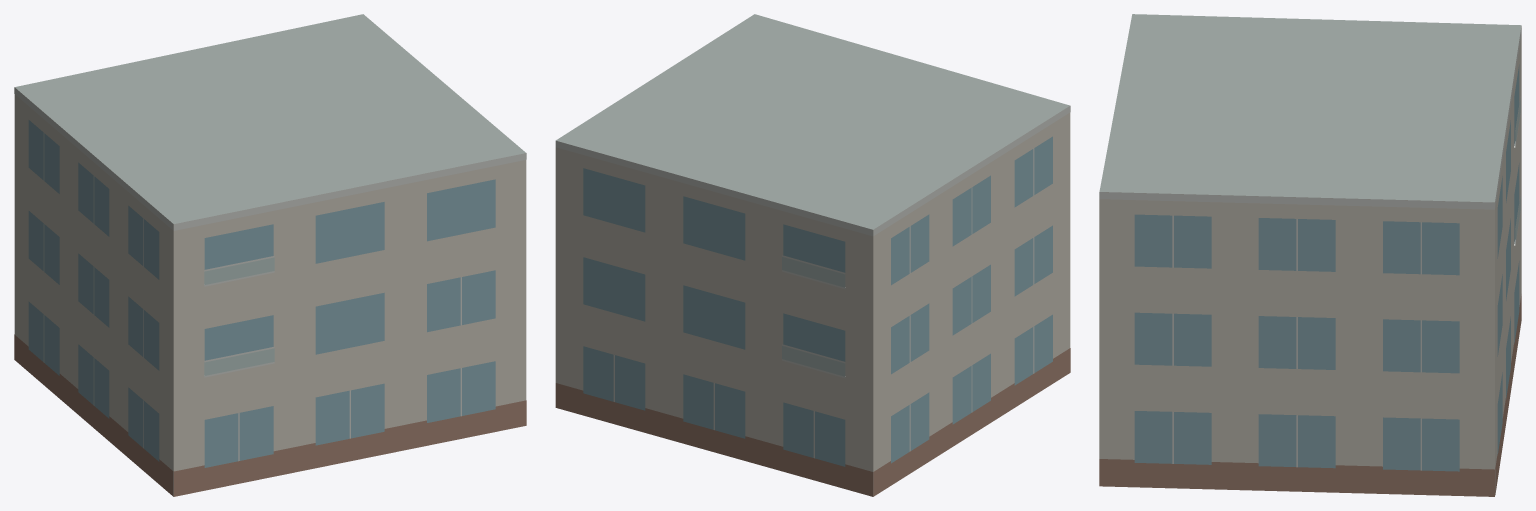
Rendered from survey-upis-32762517.glb.
3 views of the same model, side by side, from view 1: azimuth 30°, elevation 25°; view 2: azimuth 150°, elevation 25°; view 3: azimuth 270°, elevation 25° (orthographic). The views are drawn at different scales.
Visible parts, largest first — view 1: survey-upis-32762517.tmp; view 2: survey-upis-32762517.tmp; view 3: survey-upis-32762517.tmp.
Boxes of the visible parts, x1,y1,x2,y2 form: survey-upis-32762517.tmp: (14,14,526,496); survey-upis-32762517.tmp: (555,14,1070,496); survey-upis-32762517.tmp: (1099,14,1521,496).
Bounding box in the file's own units: 13.46 × 9.8 × 12.75.
